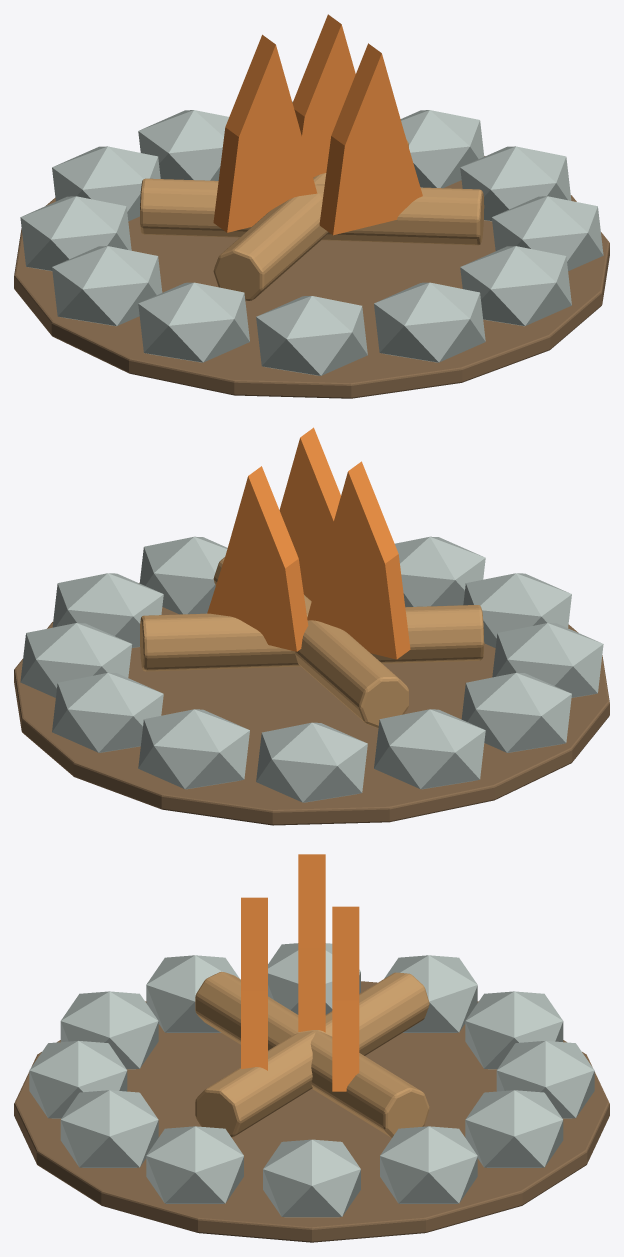
Rendered from S072_campfire_circle.glb.
3 views of the same model, one above another, from view 1: azimuth 30°, elevation 25°; view 2: azimuth 150°, elevation 25°; view 3: azimuth 270°, elevation 25° (orthographic).
Parts seen in each view (by area): view 1: fire_ground, painted_foam_flame.002, painted_foam_flame, charred_log, fire_circle_stone.009, fire_circle_stone.007, fire_circle_stone.008, fire_circle_stone.006, fire_circle_stone.010, charred_log.001, fire_circle_stone.005, fire_circle_stone.011 (+5 smaller); view 2: fire_ground, painted_foam_flame, charred_log.001, painted_foam_flame.001, fire_circle_stone.003, fire_circle_stone.005, fire_circle_stone.004, fire_circle_stone.006, charred_log, fire_circle_stone.002, painted_foam_flame.002, fire_circle_stone.007 (+5 smaller); view 3: fire_ground, charred_log, charred_log.001, fire_circle_stone, fire_circle_stone.001, fire_circle_stone.011, fire_circle_stone.002, fire_circle_stone.010, fire_circle_stone.003, fire_circle_stone.009, fire_circle_stone.004, fire_circle_stone.008 (+6 smaller).
Part boxes in pixels (x1,y1,x2,y2): fire_ground: (14,156,609,398); painted_foam_flame.002: (319,43,422,235); painted_foam_flame: (213,34,317,232); charred_log: (140,178,484,245); fire_circle_stone.009: (374,282,485,362); fire_circle_stone.007: (138,282,249,362); fire_circle_stone.008: (256,296,367,375); fire_circle_stone.006: (52,246,162,326); fire_circle_stone.010: (460,246,571,326); charred_log.001: (213,140,408,300); fire_circle_stone.005: (20,196,131,271); fire_circle_stone.011: (491,196,603,271); fire_ground: (14,583,609,825); painted_foam_flame: (307,461,410,659); charred_log.001: (140,605,484,671); painted_foam_flame.001: (207,466,308,651); fire_circle_stone.003: (138,709,249,789); fire_circle_stone.005: (374,709,485,789); fire_circle_stone.004: (256,722,367,802); fire_circle_stone.006: (461,672,571,752); charred_log: (213,557,408,728); fire_circle_stone.002: (52,672,163,752); painted_foam_flame.002: (279,427,340,600); fire_circle_stone.007: (492,623,603,697); fire_ground: (14,981,609,1242); charred_log: (195,972,429,1137); charred_log.001: (195,971,429,1137); fire_circle_stone: (263,1139,360,1217); fire_circle_stone.001: (380,1126,477,1203); fire_circle_stone.011: (146,1126,243,1203); fire_circle_stone.002: (465,1090,563,1167); fire_circle_stone.010: (60,1090,158,1167); fire_circle_stone.003: (496,1040,594,1118); fire_circle_stone.009: (29,1040,127,1118); fire_circle_stone.004: (465,991,563,1069); fire_circle_stone.008: (60,991,158,1069).
Size of the model in its own units: 1.76 by 0.8 by 1.76.
